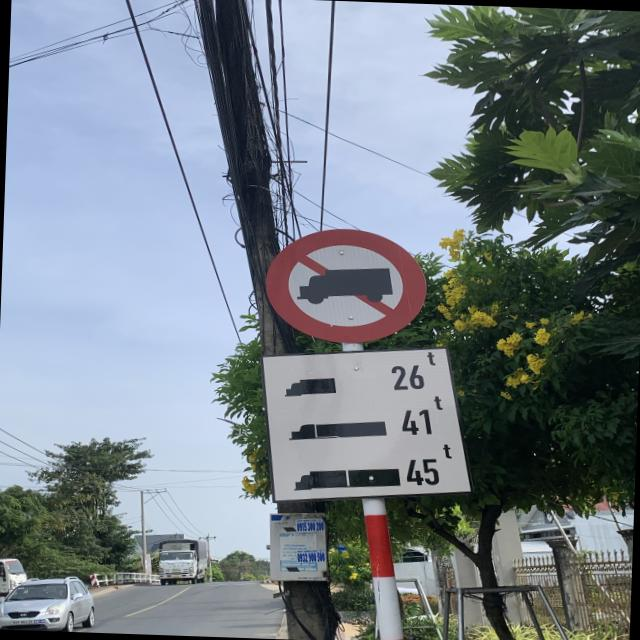Cam_Xe_Tai: (265, 224, 431, 346)
